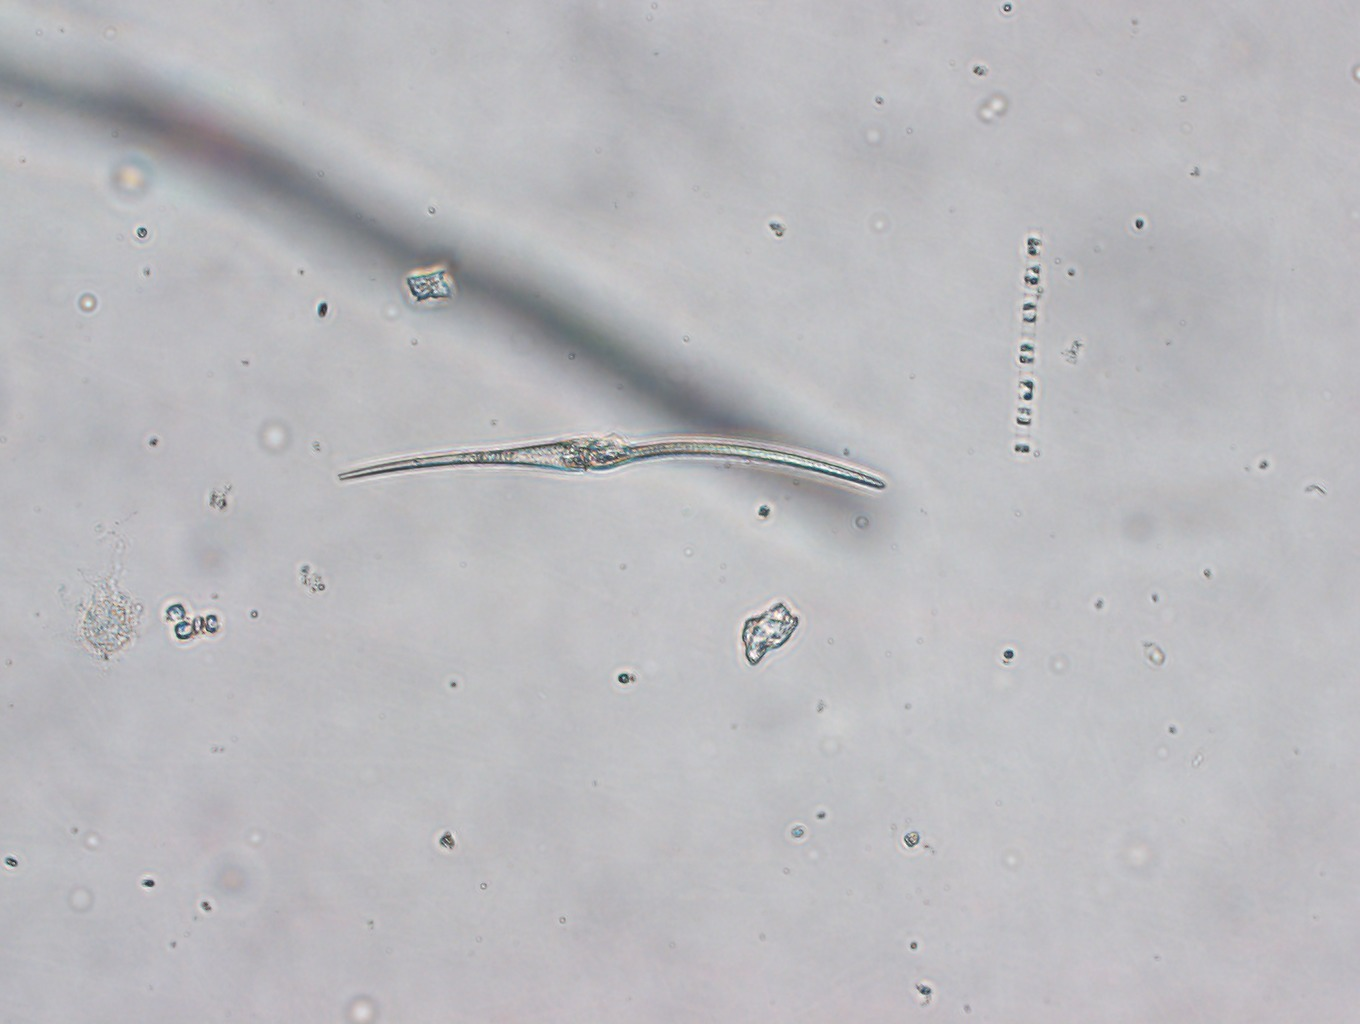ceratium fusus: (337, 435, 889, 490)
skeletonema: (1016, 223, 1057, 463)
